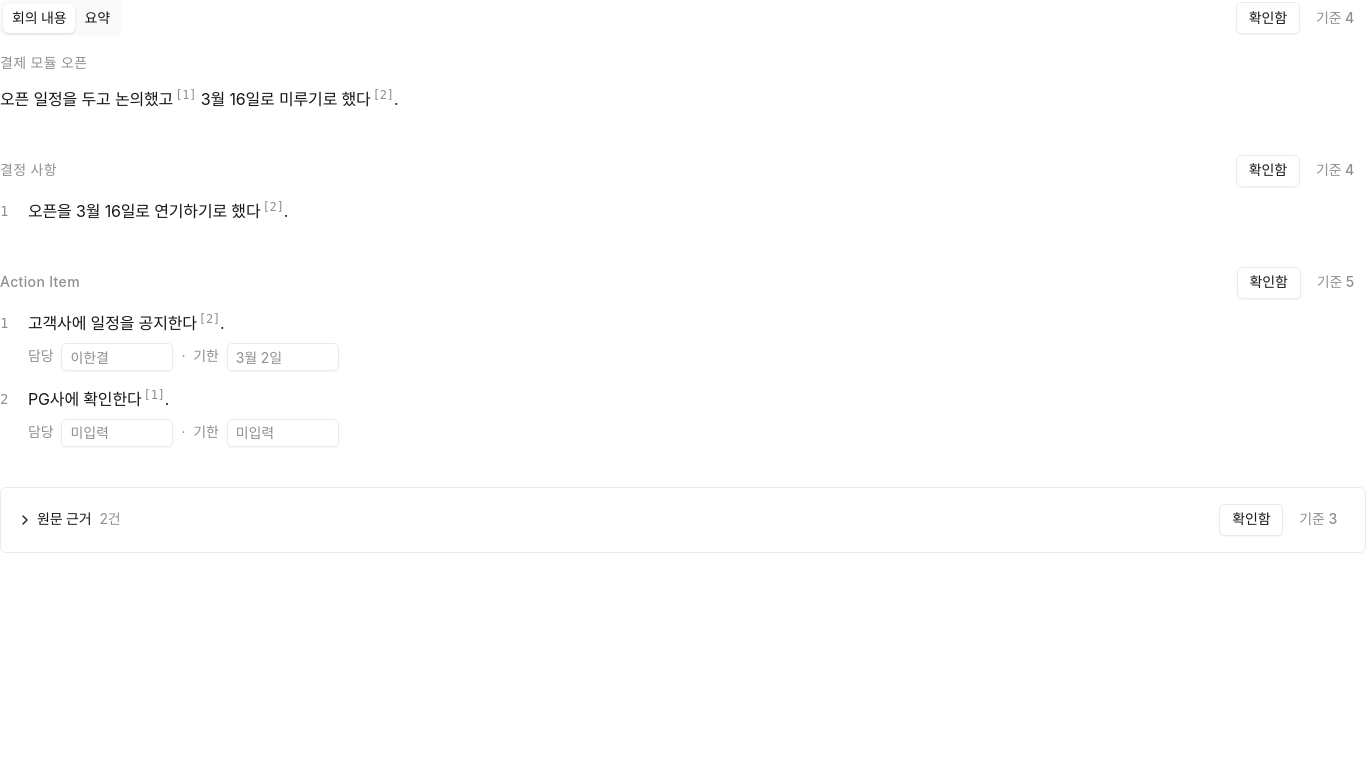
Test: ⛔ 근거로 음성에 닿는다 › ⛔ 각주를 눌러도 소리가 나지 않는다 — 읽는 중에 재생이 시작되면 방해다
Click the button named "근거 2": (382, 95) [371,86,394,105]
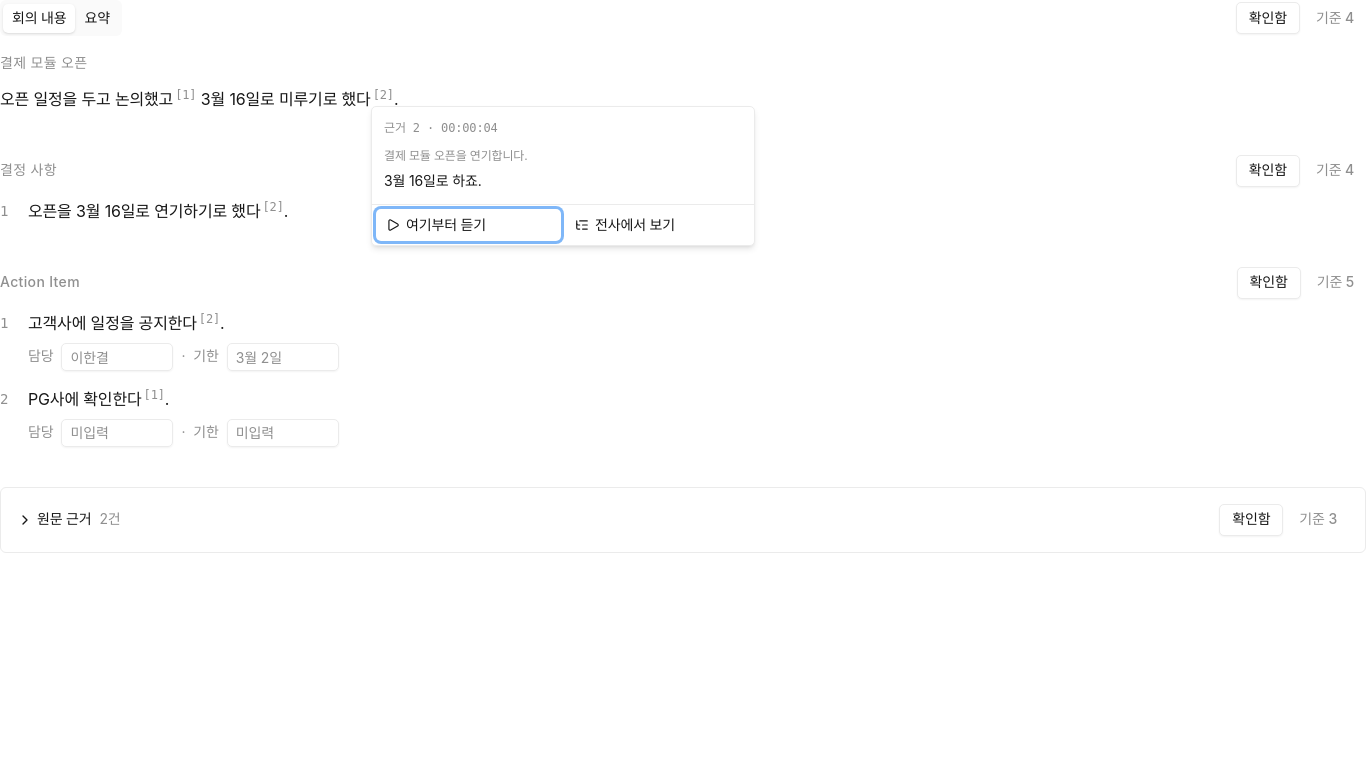
Now the dialog with test id "footnote-card" is shown, box [371,106,755,246]
